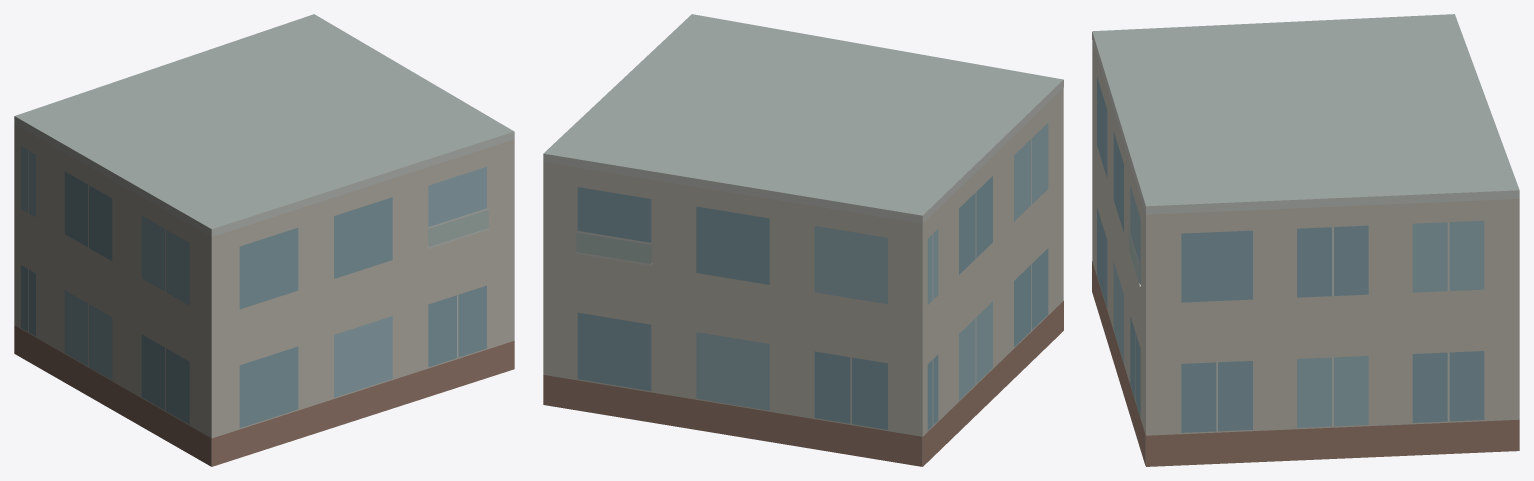
The model's file is survey-upis-32540595.glb.
3 views of the same model, side by side, from view 1: azimuth 30°, elevation 25°; view 2: azimuth 150°, elevation 25°; view 3: azimuth 270°, elevation 25° (orthographic). The views are drawn at different scales.
Parts seen in each view (by area): view 1: survey-upis-32540595.tmp; view 2: survey-upis-32540595.tmp; view 3: survey-upis-32540595.tmp.
Boxes of the visible parts, x1,y1,x2,y2 form: survey-upis-32540595.tmp: [14, 14, 514, 466]; survey-upis-32540595.tmp: [543, 14, 1063, 466]; survey-upis-32540595.tmp: [1092, 14, 1519, 466].
Size of the model in its own units: 11.87 by 7.5 by 11.16.
